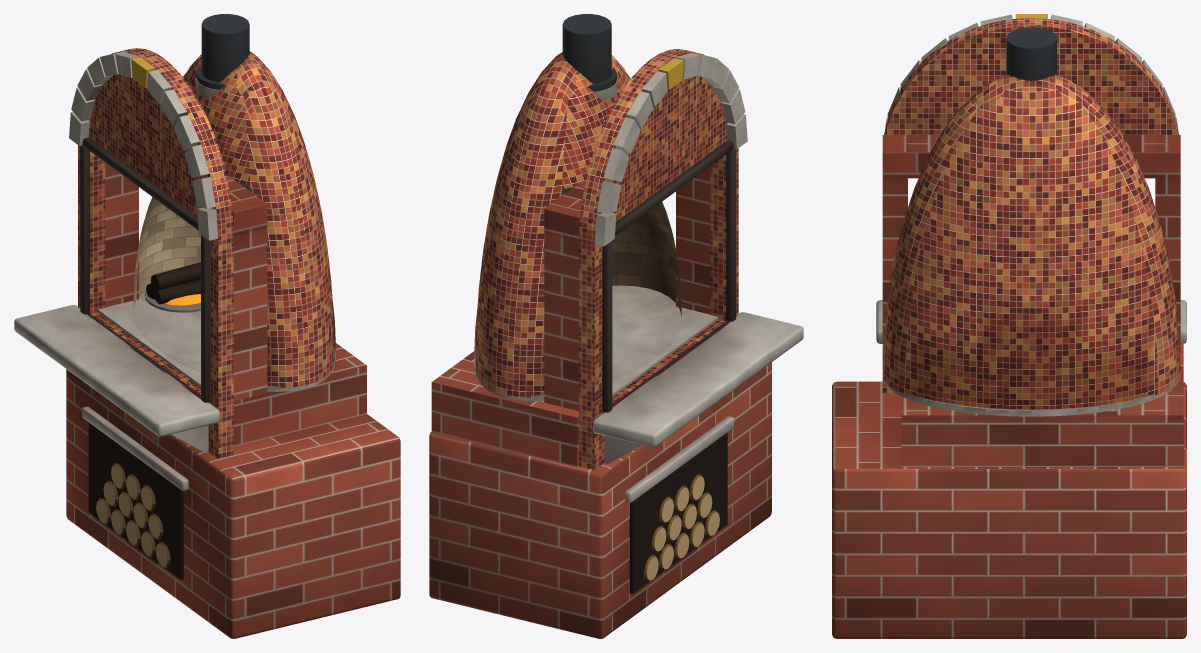
Rendered from fp-oven-wood.gltf.
3 views of the same model, side by side, from view 1: azimuth 30°, elevation 25°; view 2: azimuth 150°, elevation 25°; view 3: azimuth 270°, elevation 25° (orthographic). The views are drawn at different scales.
Parts seen in each view (by area): view 1: model, chamber; view 2: model, chamber; view 3: model.
Part boxes in pixels (left/top/right/bottom): model: left=14, top=14, right=400, bottom=638; chamber: left=133, top=169, right=335, bottom=352; model: left=429, top=14, right=803, bottom=638; chamber: left=474, top=145, right=681, bottom=361; model: left=832, top=14, right=1186, bottom=638.
Size of the model in its own units: 0.86 by 1.95 by 1.12.
16 materials, 6 textured.
